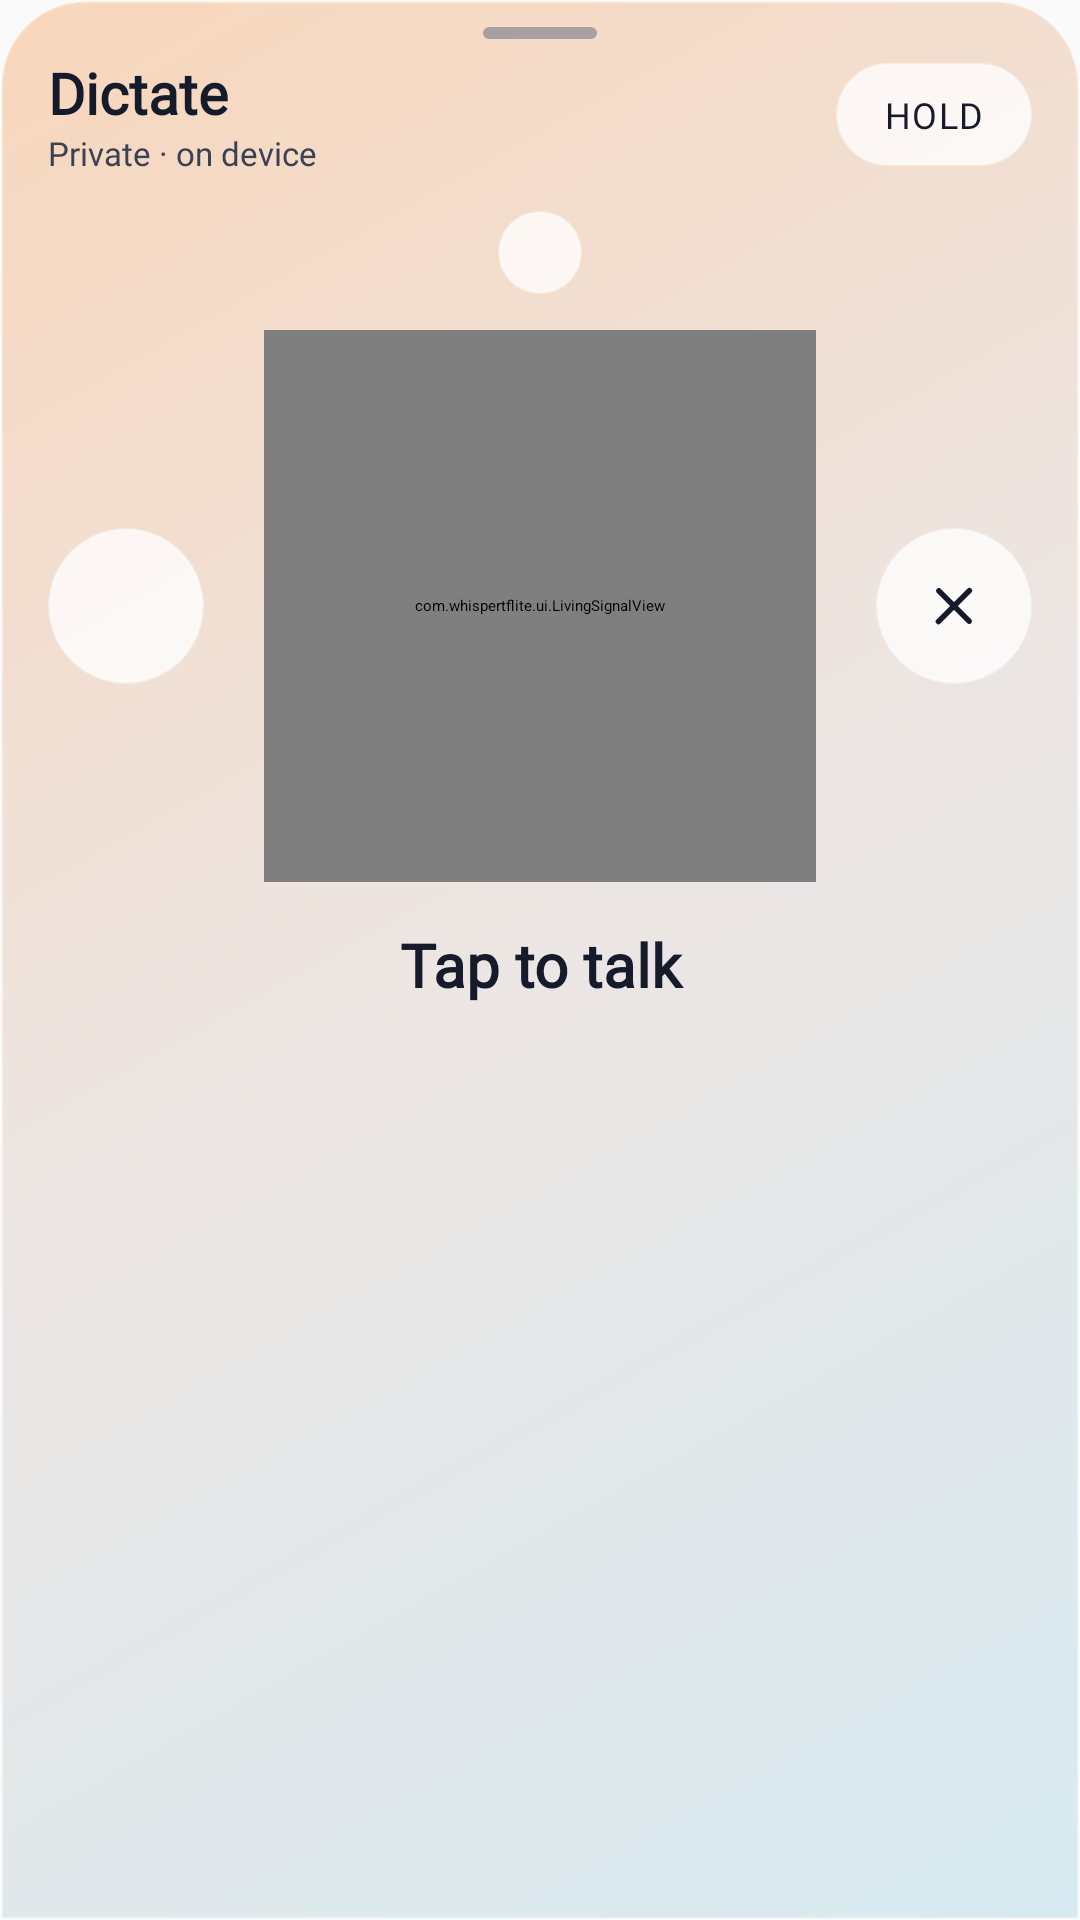

Locate icon controls on the screen. Image size 1080×1920, boxes as (x1, y1, x2, y2).
close: (876, 528, 1032, 684)
